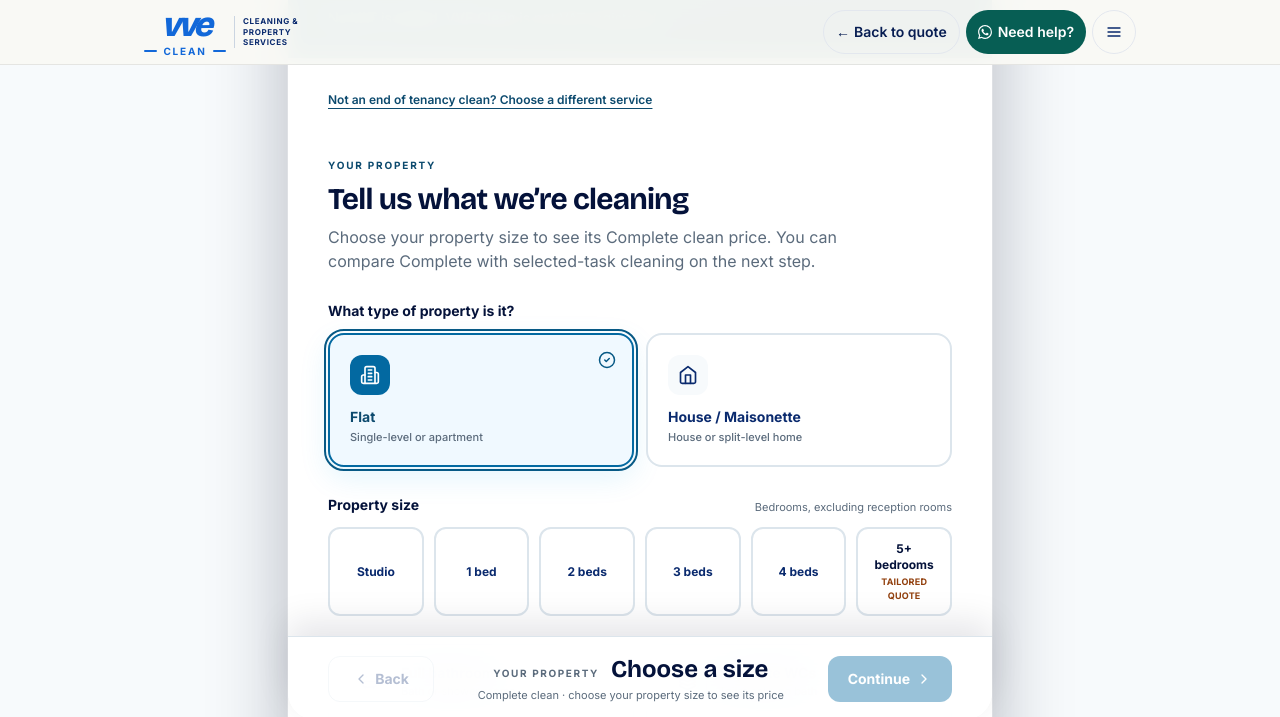
booking handoff when the browser blocks storage › returns an inline replacement service to the general quote instead of the old locked service page
Earlier steps of the test are not shown.
(page scrolled)
Click the button "Studio" at (376, 572), box [328,527,424,616]
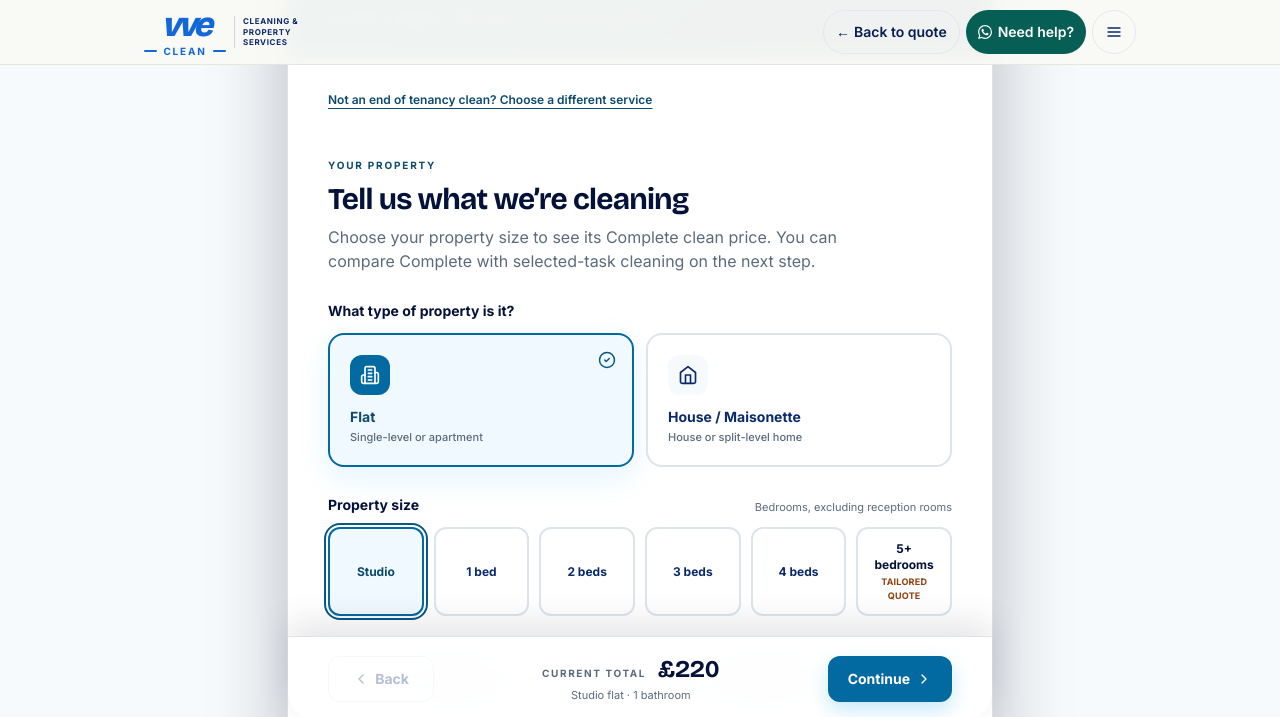
Click the button "Continue" at (890, 679), box [828,656,952,702]
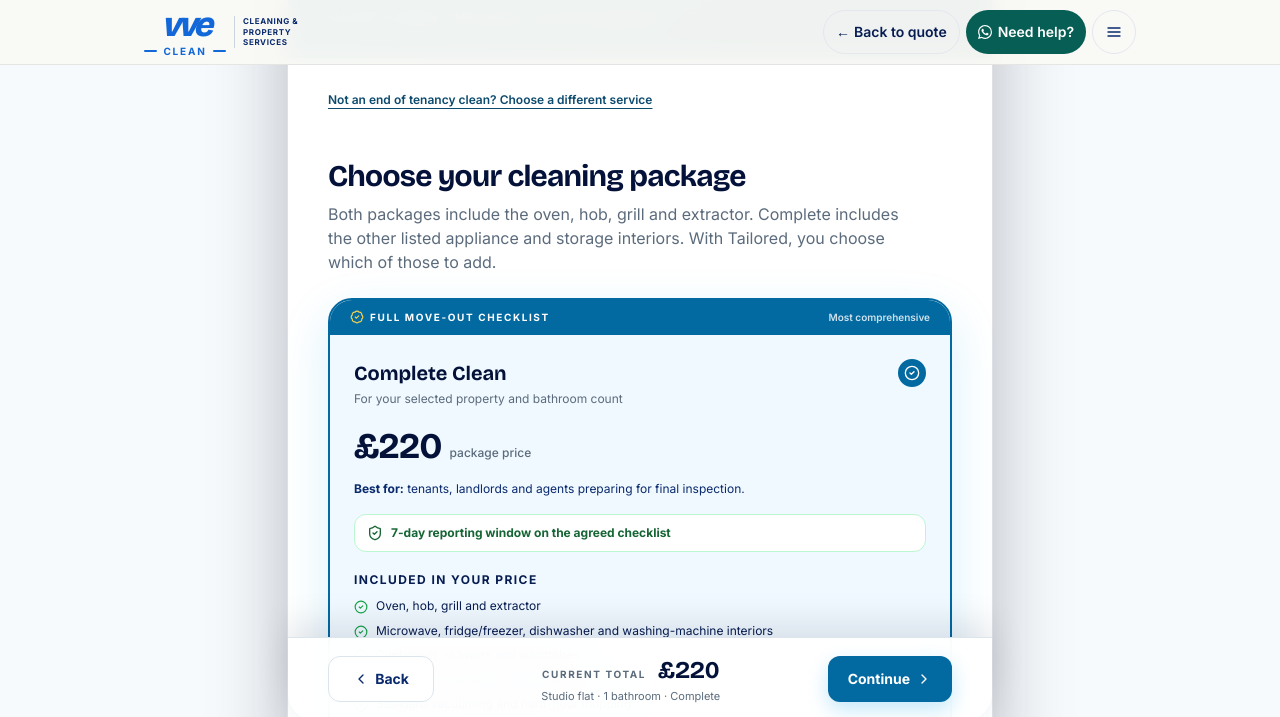
Click the button "Continue" at (890, 679), box [828,656,952,702]
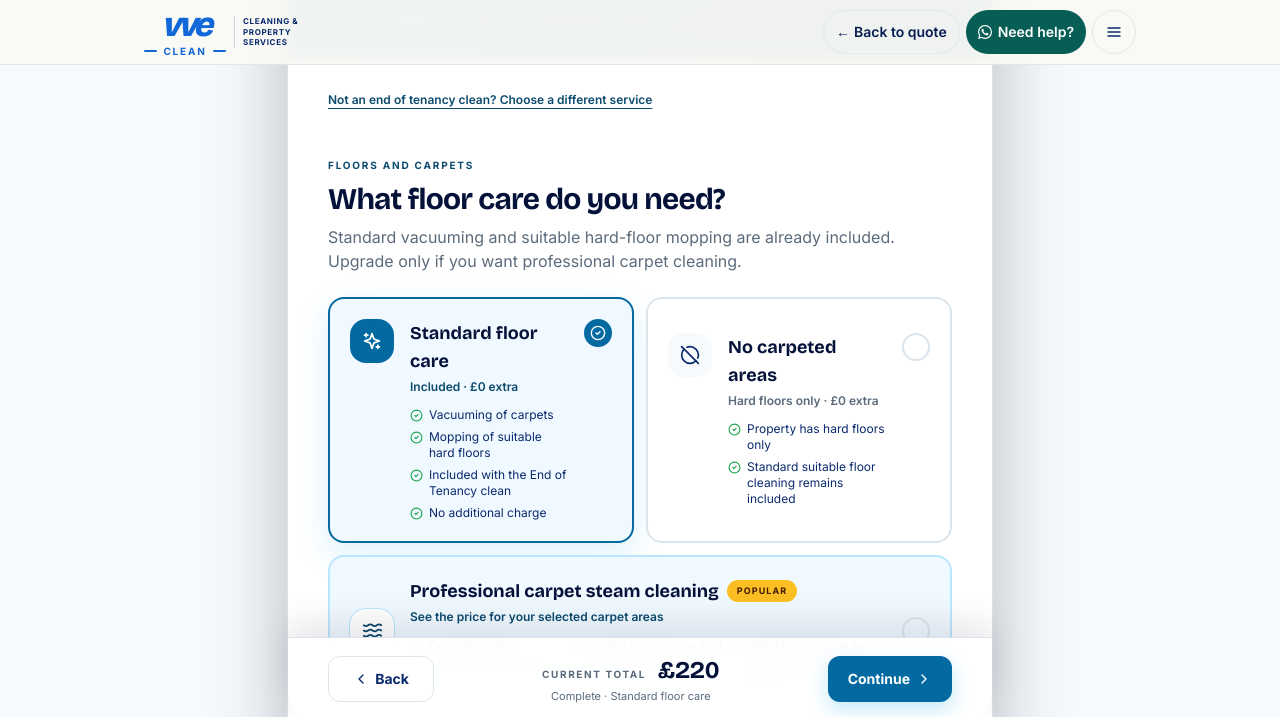
Click the button "Continue" at (890, 679), box [828,656,952,702]
(page scrolled)
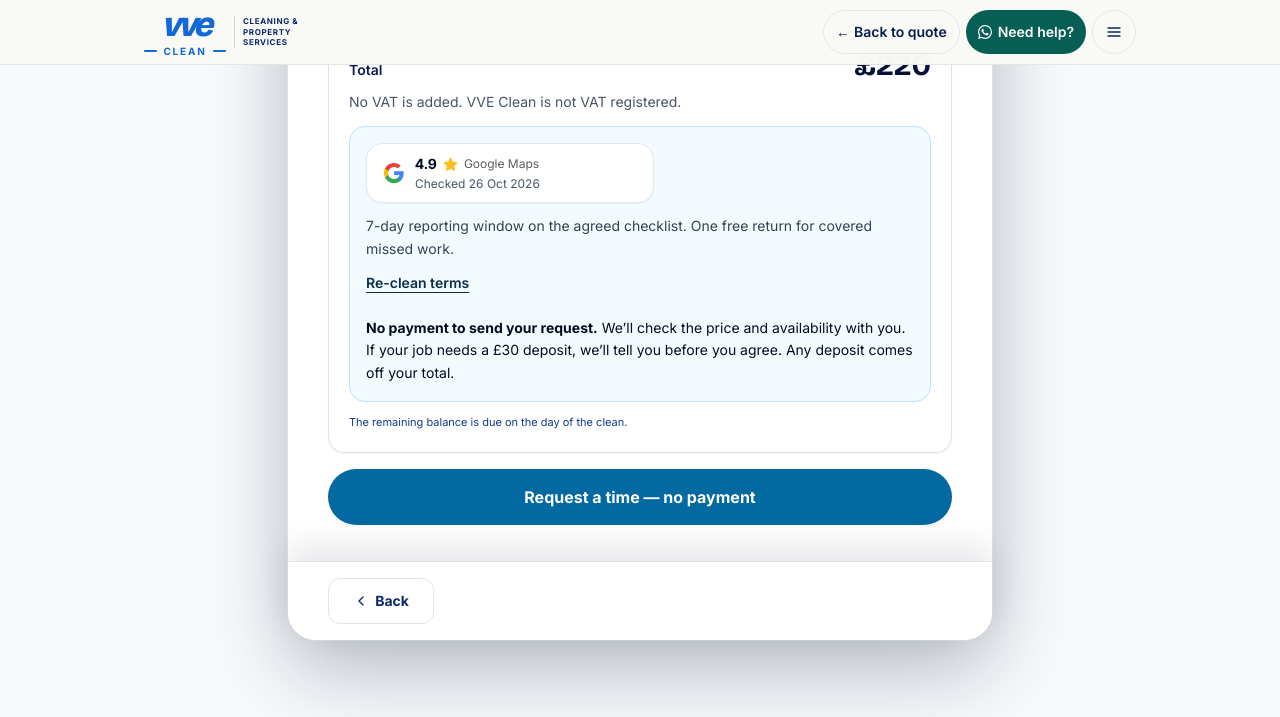
Click the button "Request a time — no payment" at (640, 497), box [328,469,952,525]
(page scrolled)
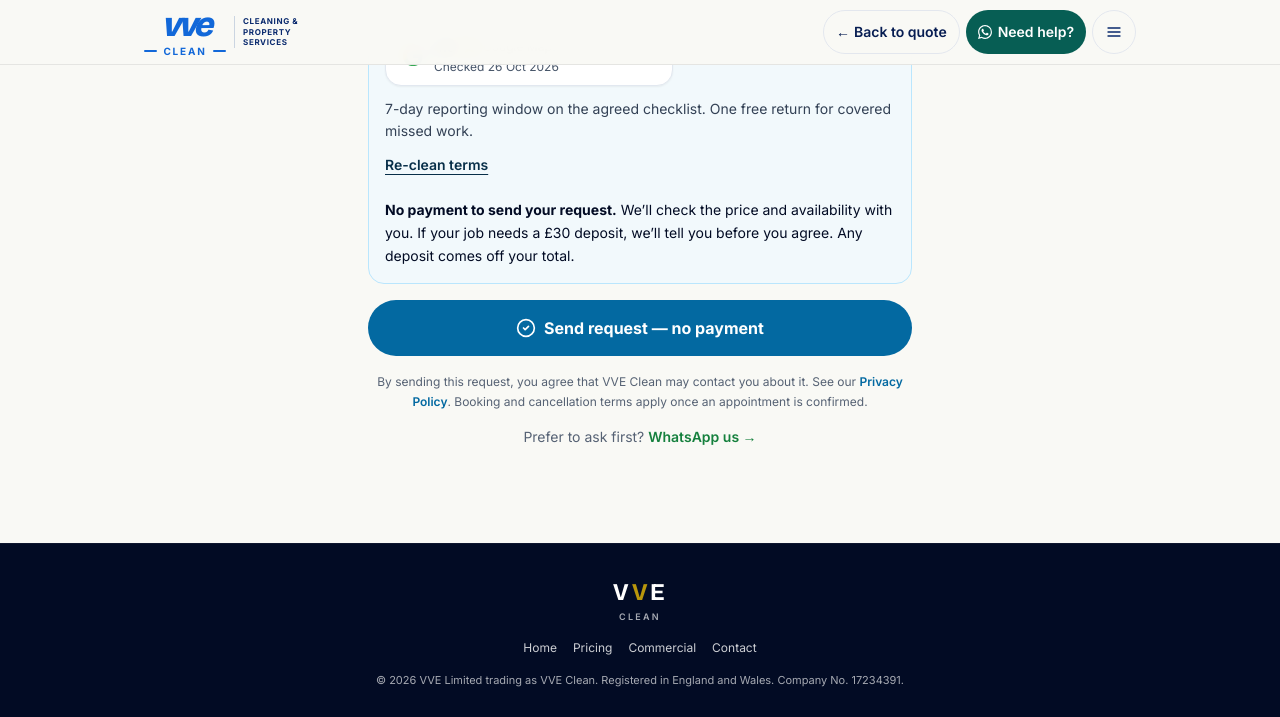
Click the link "← Back to quote" at (891, 32), box [823,10,960,54]
(page scrolled)
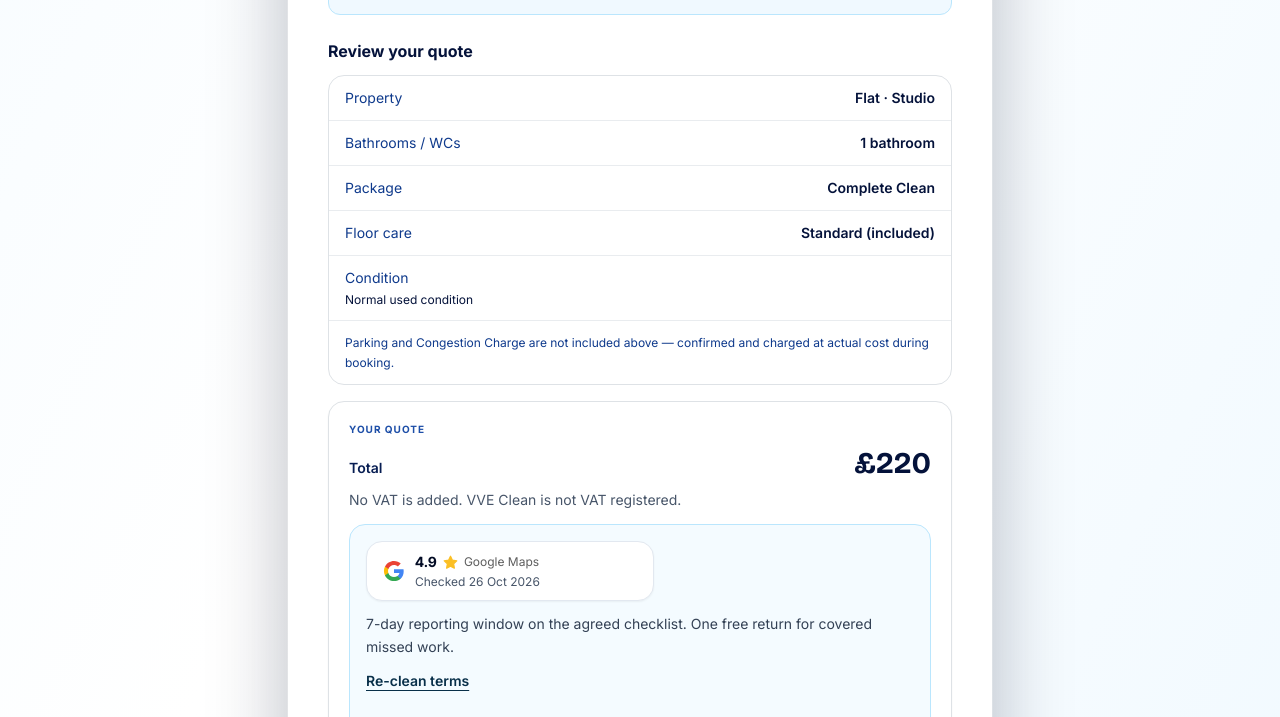
Now the text "Flat · Studio" is shown, box [855,88,935,108]
